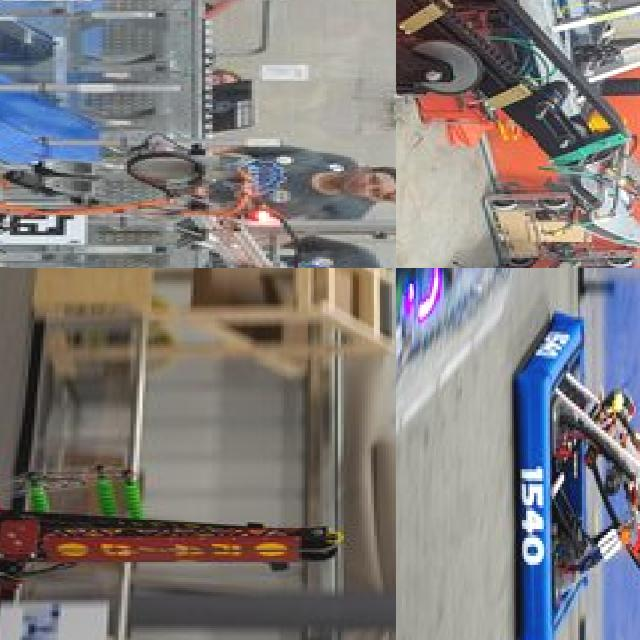FRC-Robots: (0, 409, 343, 640), (0, 109, 395, 268), (396, 0, 624, 268), (502, 268, 640, 640)
